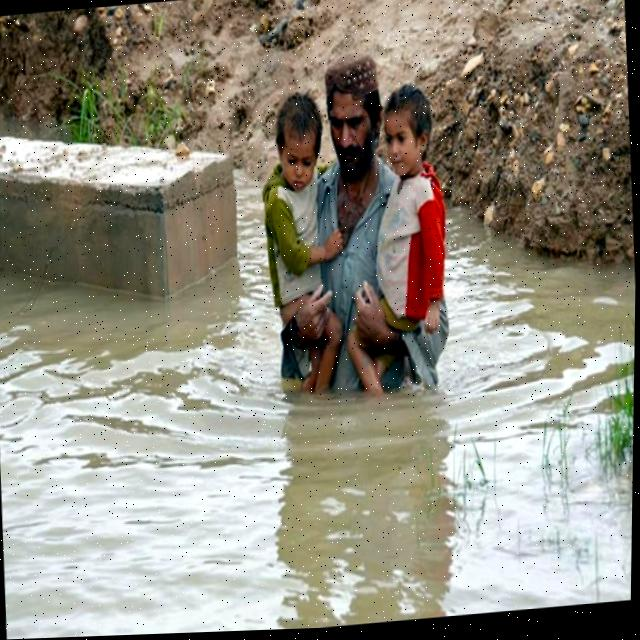civilian: (274, 47, 413, 407), (240, 85, 355, 402), (357, 78, 471, 391)
